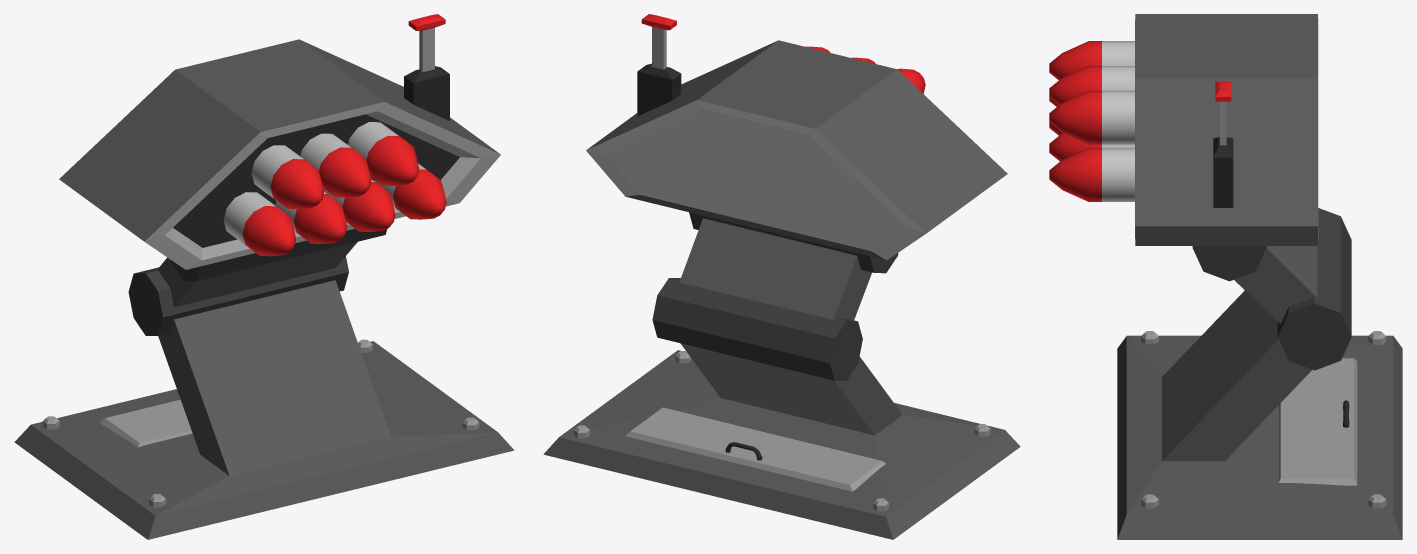
Rendered from missileSize1.glb.
3 views of the same model, side by side, from view 1: azimuth 30°, elevation 25°; view 2: azimuth 150°, elevation 25°; view 3: azimuth 270°, elevation 25° (orthographic). The views are drawn at different scales.
Parts seen in each view (by area): view 1: Missiles Size 1; view 2: Missiles Size 1; view 3: Missiles Size 1.
Part boxes in pixels (x1=…): Missiles Size 1: x1=14, y1=14, x2=514, y2=539; Missiles Size 1: x1=543, y1=14, x2=1020, y2=539; Missiles Size 1: x1=1049, y1=14, x2=1402, y2=539.
Size of the model in its own units: 0.9253 by 0.9768 by 0.7225.
